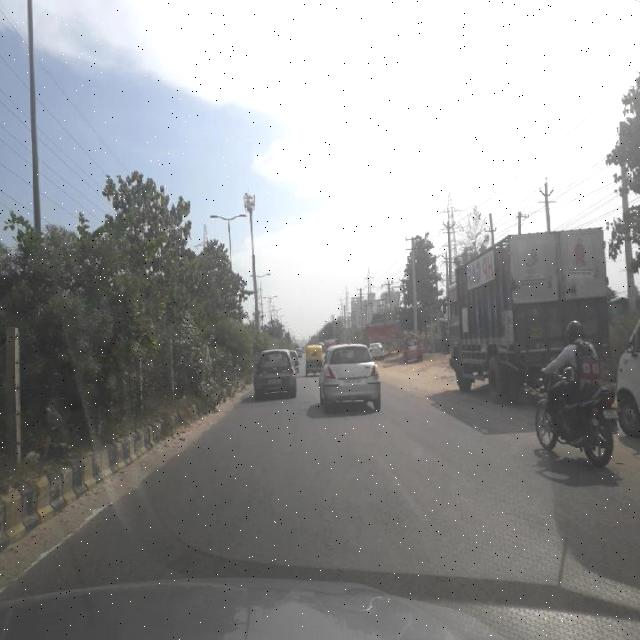D20: (36, 460, 640, 577)
D44: (372, 441, 426, 520)
